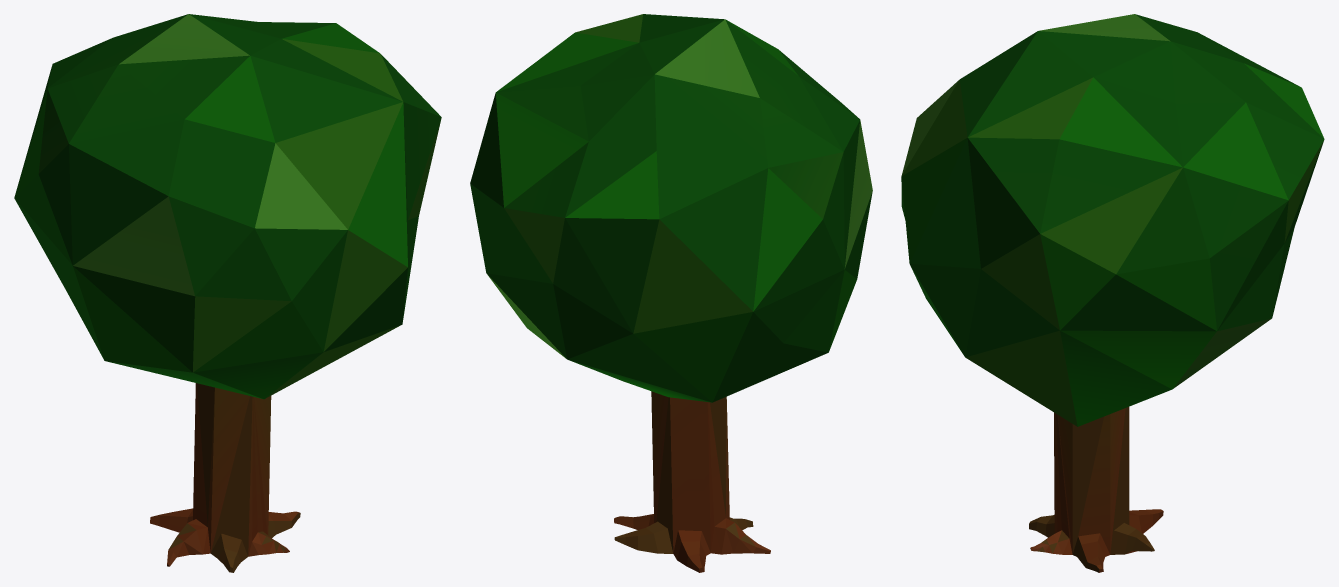
File: tree.glb
3 renders of one model, left to right at view 1: azimuth 30°, elevation 25°; view 2: azimuth 150°, elevation 25°; view 3: azimuth 270°, elevation 25°, orthographic.
Parts seen in each view (by area): view 1: Tree; view 2: Tree; view 3: Tree.
Boxes of the visible parts, x1,y1,x2,y2 form: Tree: (14, 14, 441, 572); Tree: (470, 14, 872, 572); Tree: (901, 14, 1324, 572).
Bounding box in the file's own units: 3.88 × 5.35 × 4.02.
1 material, 1 textured.
